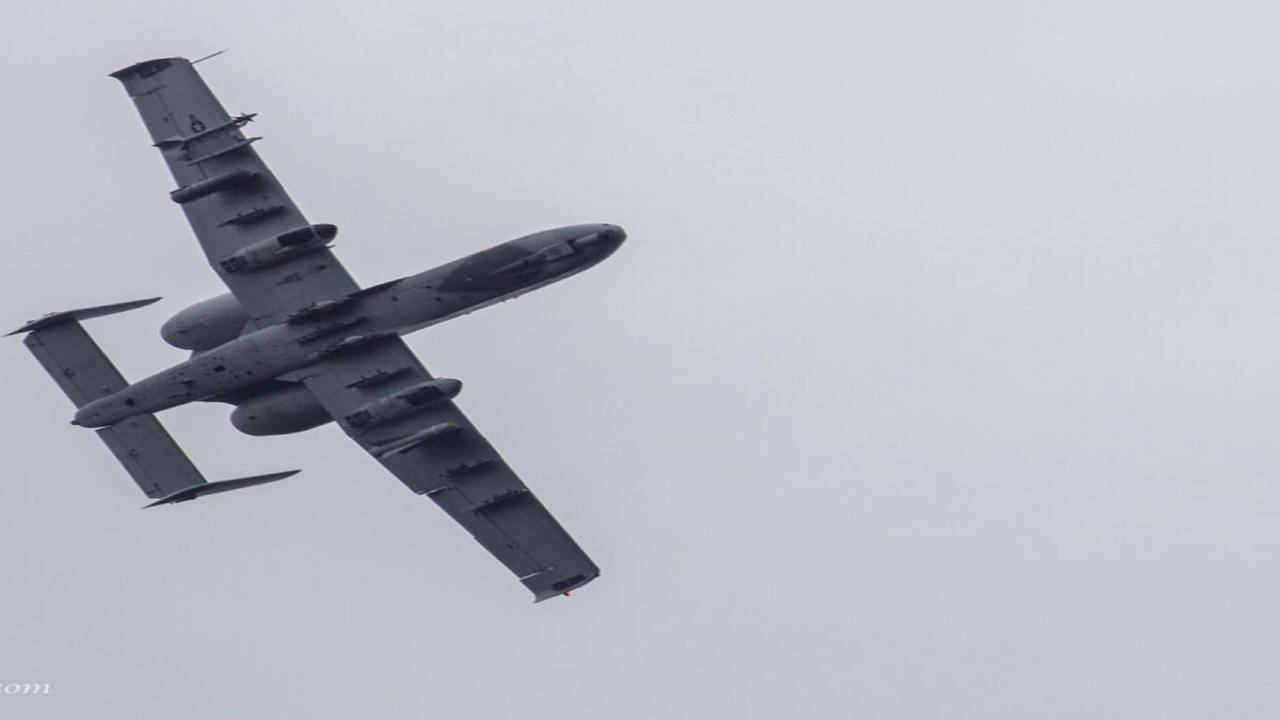Drone: (0, 38, 655, 620)
